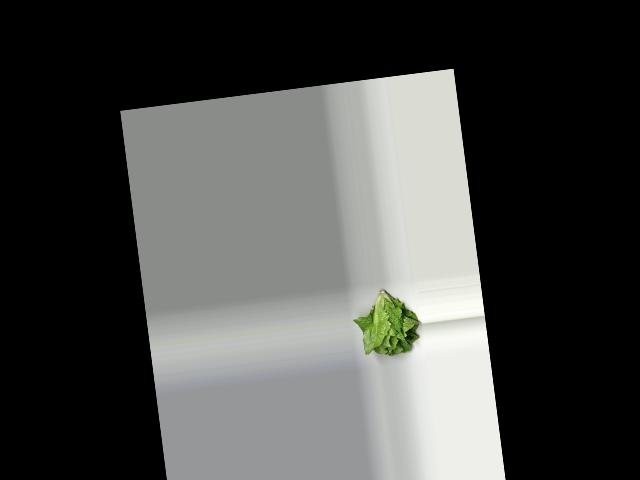lettuce: (350, 283, 423, 360)
